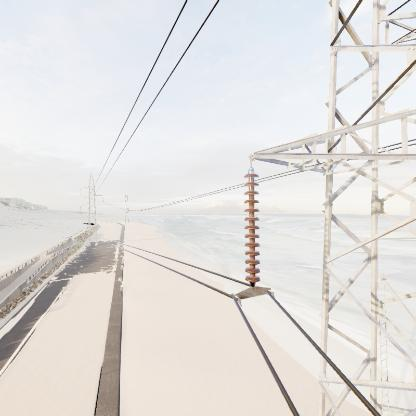insulator: (241, 170, 264, 290)
tower: (77, 172, 106, 246)
